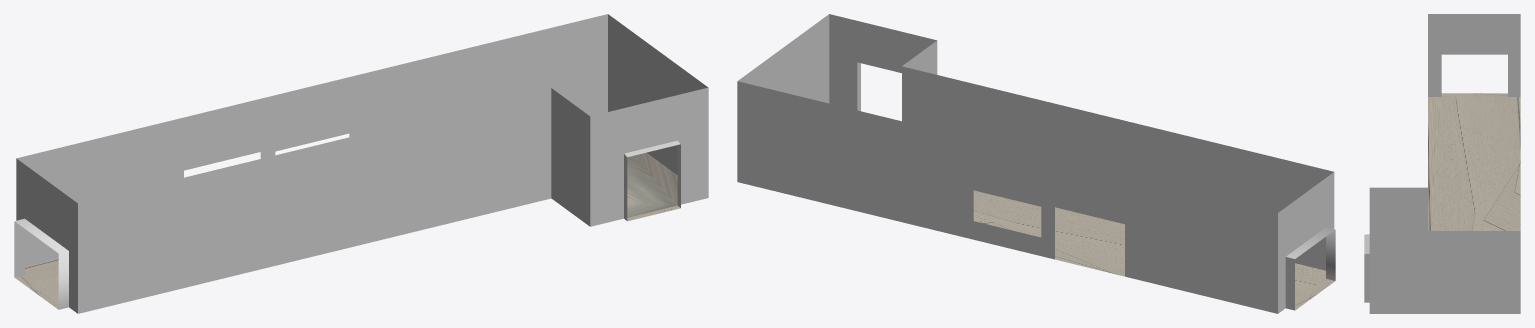
Rendered from Koridor1.fbx.
3 views of the same model, side by side, from view 1: azimuth 30°, elevation 25°; view 2: azimuth 150°, elevation 25°; view 3: azimuth 270°, elevation 25° (orthographic). The views are drawn at different scales.
Parts seen in each view (by area): view 1: Koridor1Wall, Koridor1Floor; view 2: Koridor1Wall, Koridor1Floor; view 3: Koridor1Wall, Koridor1Floor.
Boxes of the visible parts, x1,y1,x2,y2 form: Koridor1Wall: [14, 14, 708, 313]; Koridor1Floor: [15, 152, 680, 309]; Koridor1Wall: [737, 14, 1335, 313]; Koridor1Floor: [973, 190, 1334, 310]; Koridor1Wall: [1364, 14, 1520, 313]; Koridor1Floor: [1428, 93, 1520, 230].
Size of the model in its own units: 3933 by 690 by 1178.
